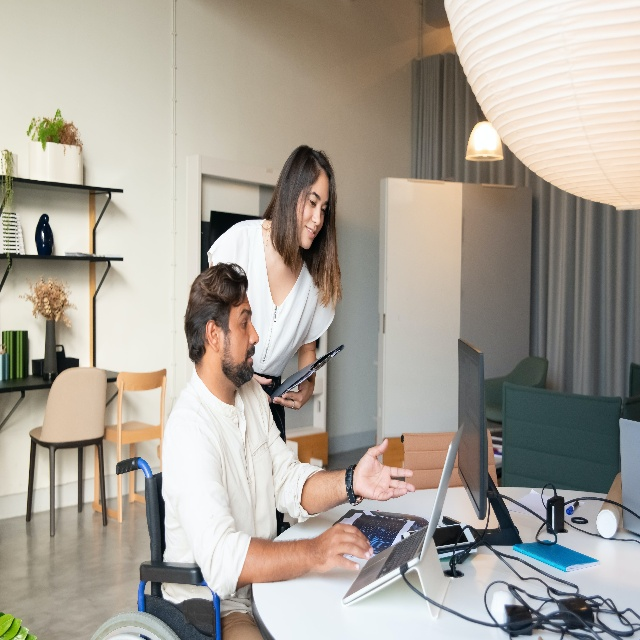Sin_guantes: (353, 438, 415, 500), (314, 522, 374, 573), (273, 378, 313, 411), (253, 373, 272, 403)
